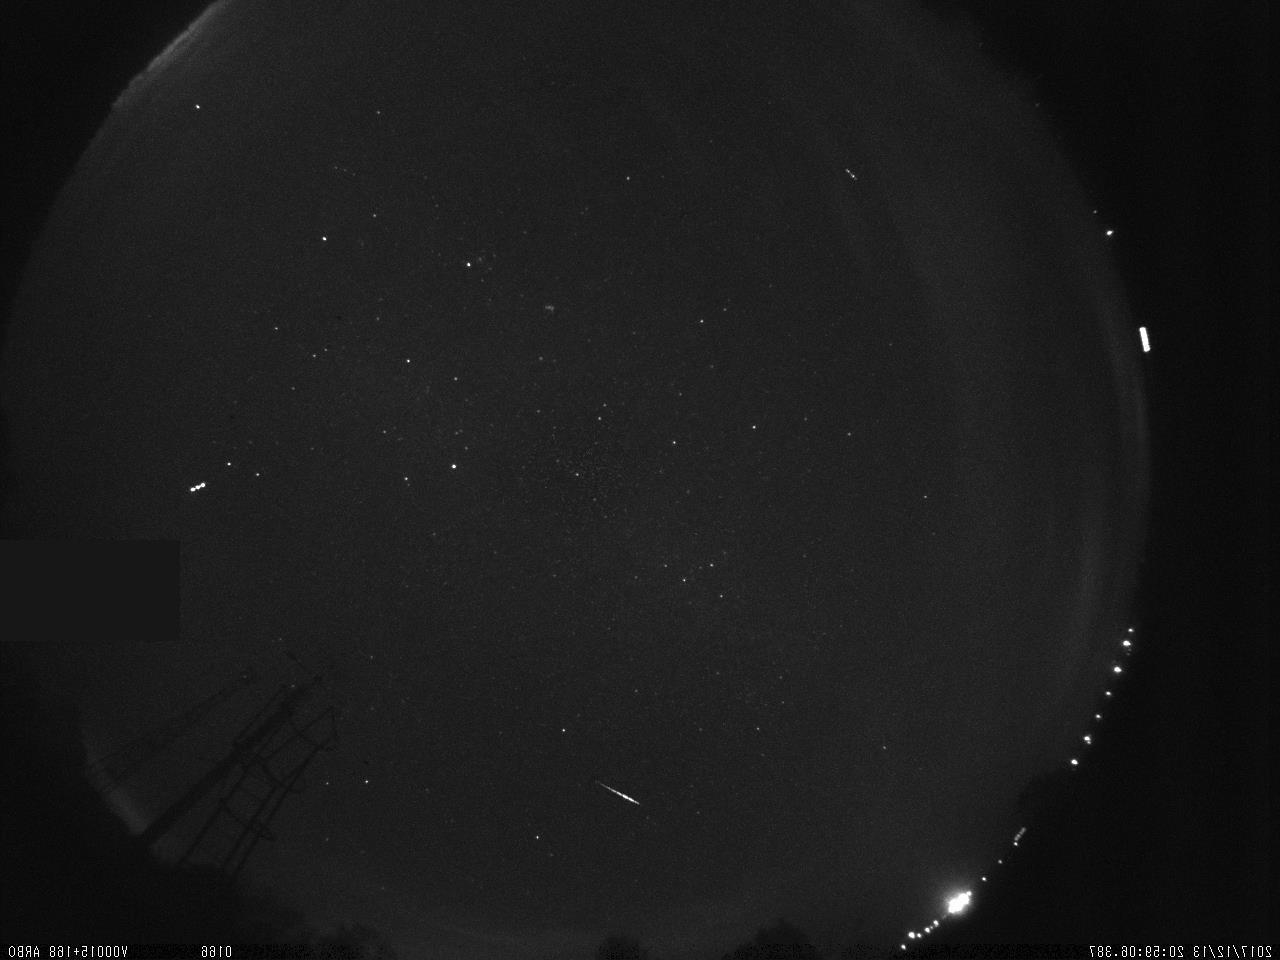meteor: (575, 761, 660, 818)
